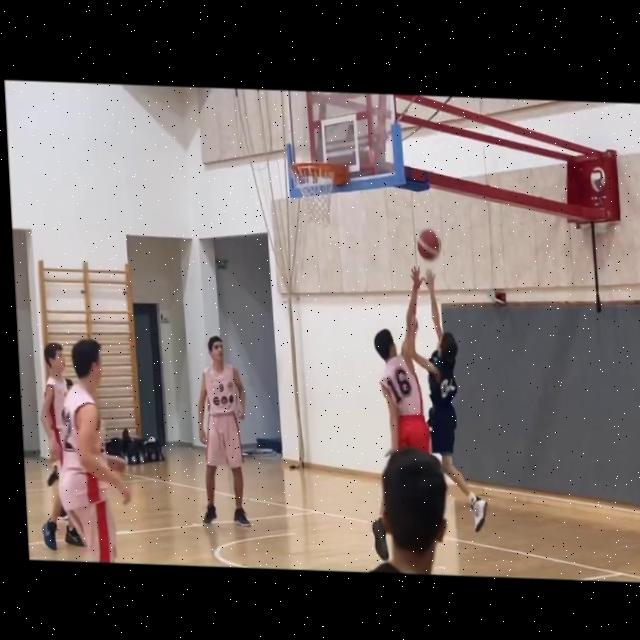basketball: (415, 225, 443, 265)
hoop: (286, 159, 339, 229)
